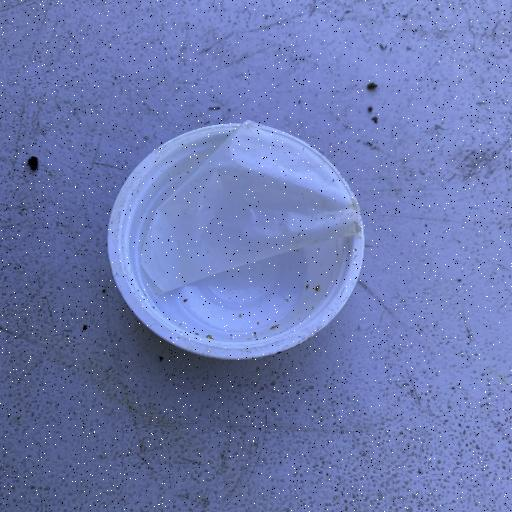Plastic: (104, 117, 368, 363)
